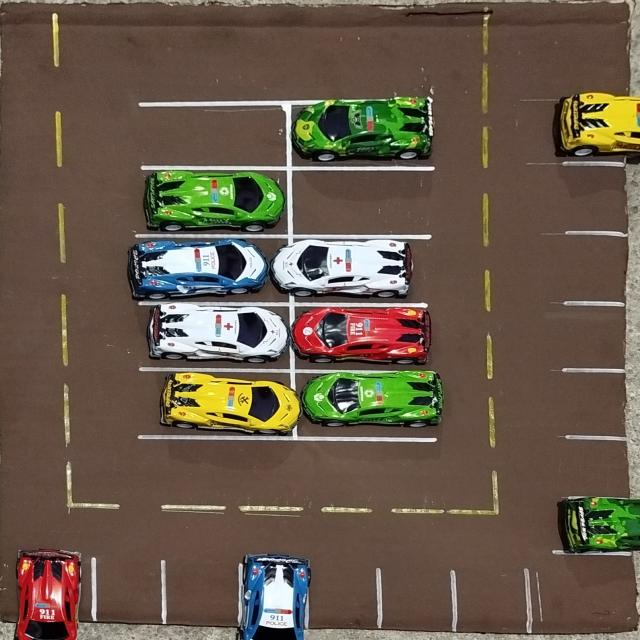libre: (290, 167, 430, 233), (138, 104, 288, 164), (91, 555, 164, 640), (164, 556, 236, 640), (309, 560, 382, 640), (379, 564, 454, 640), (454, 568, 532, 640), (558, 234, 640, 302), (560, 163, 640, 232), (561, 369, 640, 437), (563, 303, 639, 373), (561, 437, 640, 494)
no_estacionarse: (534, 553, 640, 640)
ocupado: (138, 165, 289, 238), (135, 236, 290, 306), (143, 370, 294, 440), (136, 304, 294, 369), (294, 370, 442, 439), (290, 235, 433, 303), (291, 301, 434, 369), (291, 100, 435, 166), (0, 547, 91, 640), (237, 551, 308, 640), (553, 92, 640, 161), (555, 495, 640, 553)
